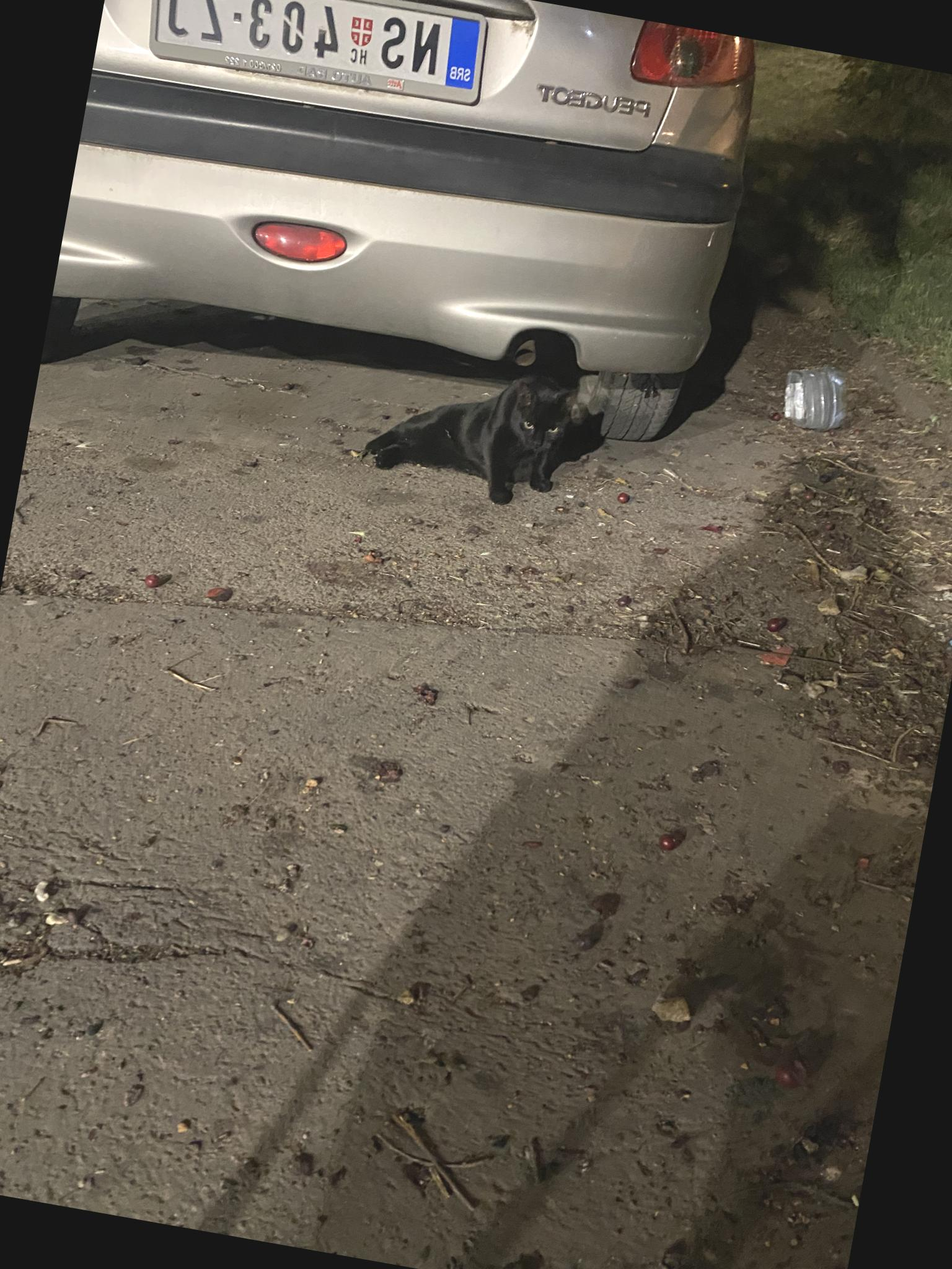macka: (358, 349, 581, 514)
